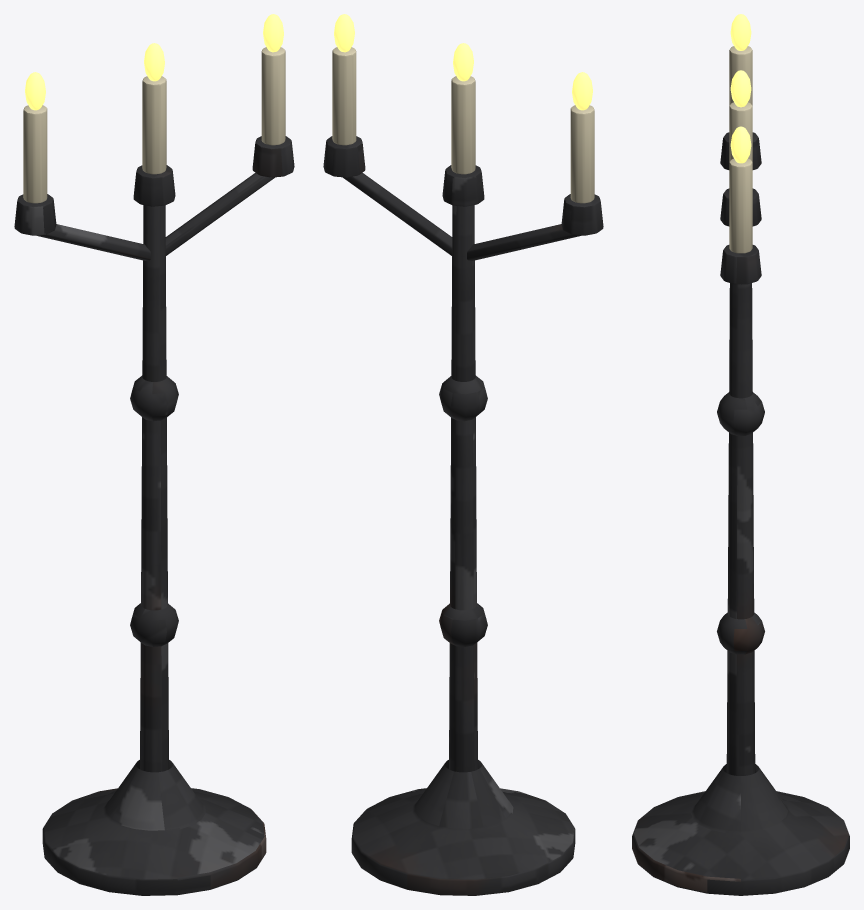
Rendered from prop_candelabra.glb.
3 views of the same model, side by side, from view 1: azimuth 30°, elevation 25°; view 2: azimuth 150°, elevation 25°; view 3: azimuth 270°, elevation 25° (orthographic). The views are drawn at different scales.
Visible parts, largest first — view 1: prop_candelabra; view 2: prop_candelabra; view 3: prop_candelabra.
Boxes of the visible parts, box(x1,y1,x2,y2) form: prop_candelabra: box(14, 14, 294, 895); prop_candelabra: box(323, 14, 603, 895); prop_candelabra: box(632, 14, 849, 895).
Bounding box in the file's own units: 0.506 × 1.42 × 0.36.
Materials: 3 (3 with a texture image).
